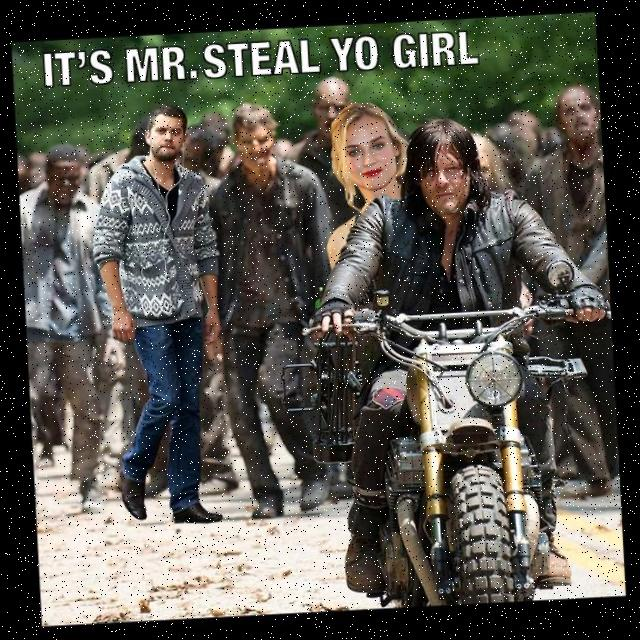No helmet: (400, 122, 490, 225)
